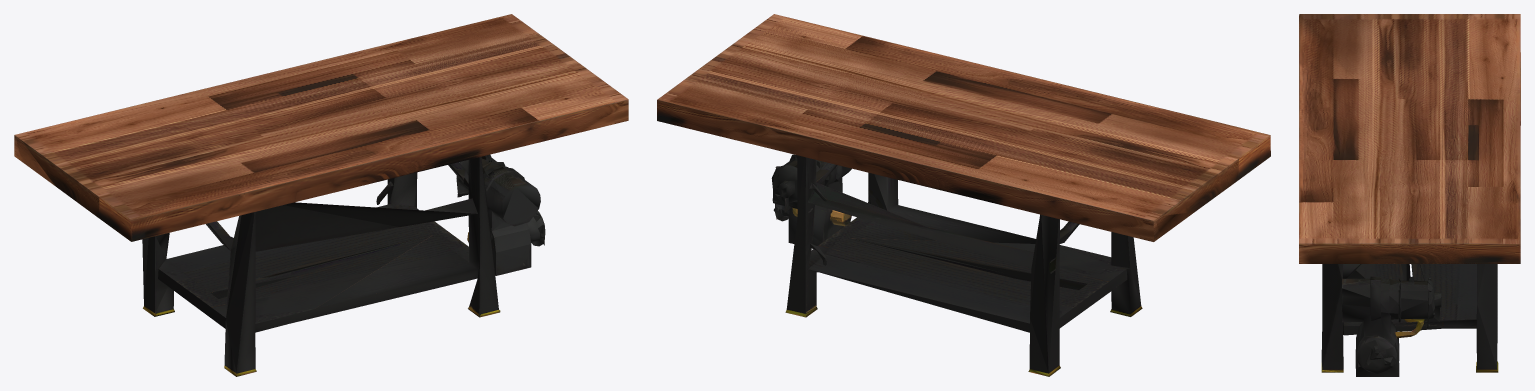
Rendered from PR_WorkshopBench.fbx.
3 views of the same model, side by side, from view 1: azimuth 30°, elevation 25°; view 2: azimuth 150°, elevation 25°; view 3: azimuth 270°, elevation 25° (orthographic). The views are drawn at different scales.
Parts seen in each view (by area): view 1: Mesh_0; view 2: Mesh_0; view 3: Mesh_0.
Part boxes in pixels (x1,y1,x2,y2): Mesh_0: (14,14,628,376); Mesh_0: (657,14,1270,376); Mesh_0: (1299,14,1520,376).
Size of the model in its own units: 190 by 70.64 by 77.55.
1 material, 1 textured.
